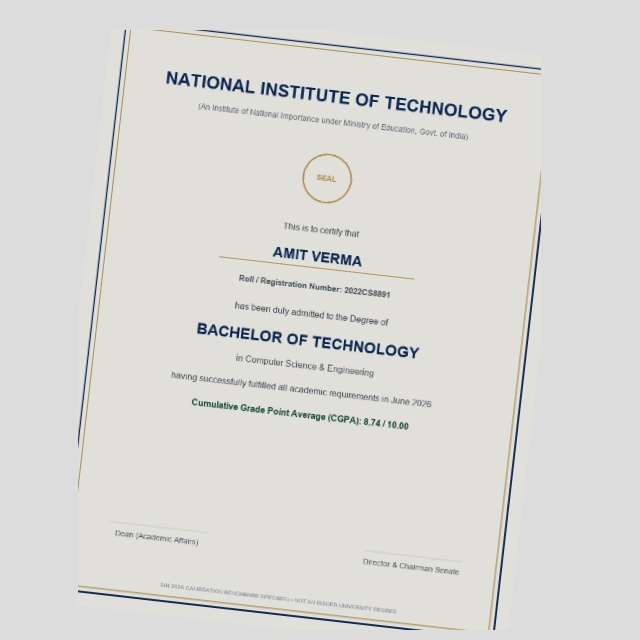marksheet: (78, 30, 541, 630)
